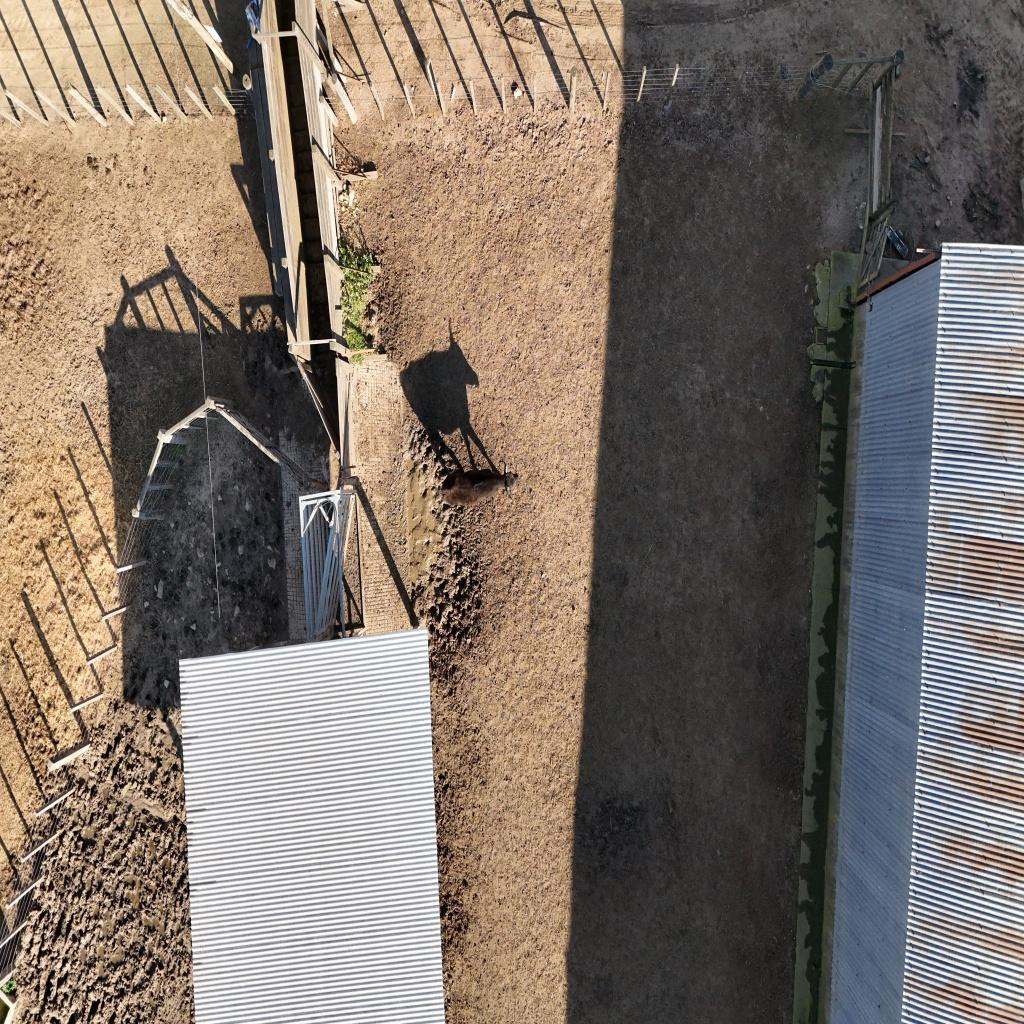cow: (435, 460, 520, 508)
